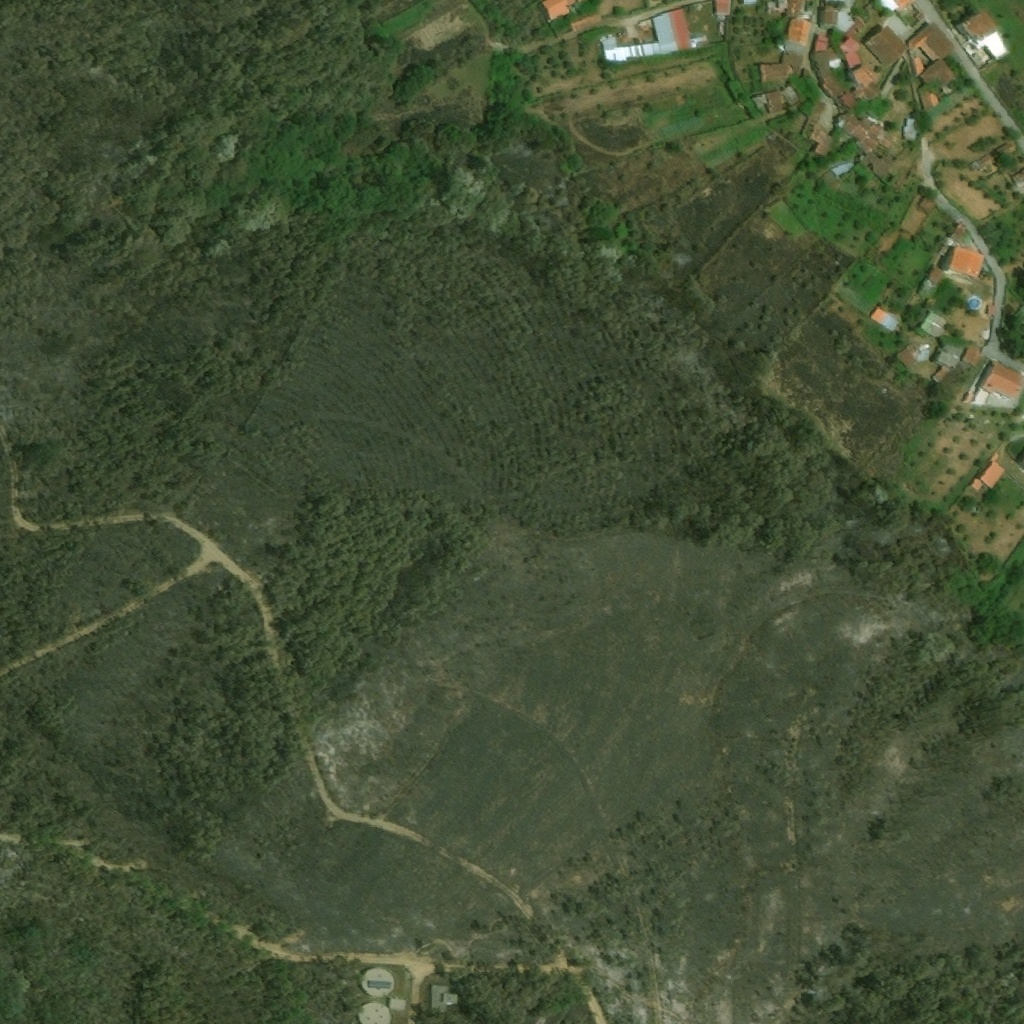0 no-damage: (600, 9, 693, 64), (956, 11, 1011, 62), (907, 22, 957, 62), (864, 25, 909, 66), (982, 360, 1023, 402), (844, 115, 888, 153), (930, 340, 966, 384), (944, 245, 987, 280), (761, 52, 805, 85), (861, 147, 898, 182), (919, 60, 958, 88), (871, 303, 906, 333), (841, 31, 869, 68), (362, 967, 396, 997), (919, 267, 947, 300), (921, 310, 951, 338), (980, 460, 1007, 491), (787, 19, 814, 47), (358, 1002, 394, 1023), (819, 74, 846, 100), (432, 984, 459, 1009), (813, 129, 837, 157), (917, 86, 940, 113), (896, 348, 922, 368), (854, 65, 876, 87), (962, 346, 984, 367), (781, 86, 802, 107), (839, 91, 861, 111), (751, 93, 771, 115), (995, 141, 1017, 161), (862, 82, 884, 102), (766, 91, 784, 115), (814, 34, 831, 53), (951, 223, 968, 242), (969, 475, 986, 492), (903, 119, 915, 143), (822, 11, 840, 27), (390, 998, 408, 1011), (920, 196, 935, 211), (987, 306, 999, 316)
4 un-classified: (540, 0, 578, 22), (777, 0, 820, 13), (882, 0, 912, 13), (714, 0, 731, 16), (1010, 170, 1023, 187), (826, 0, 845, 7), (845, 0, 856, 8), (745, 0, 758, 5)
